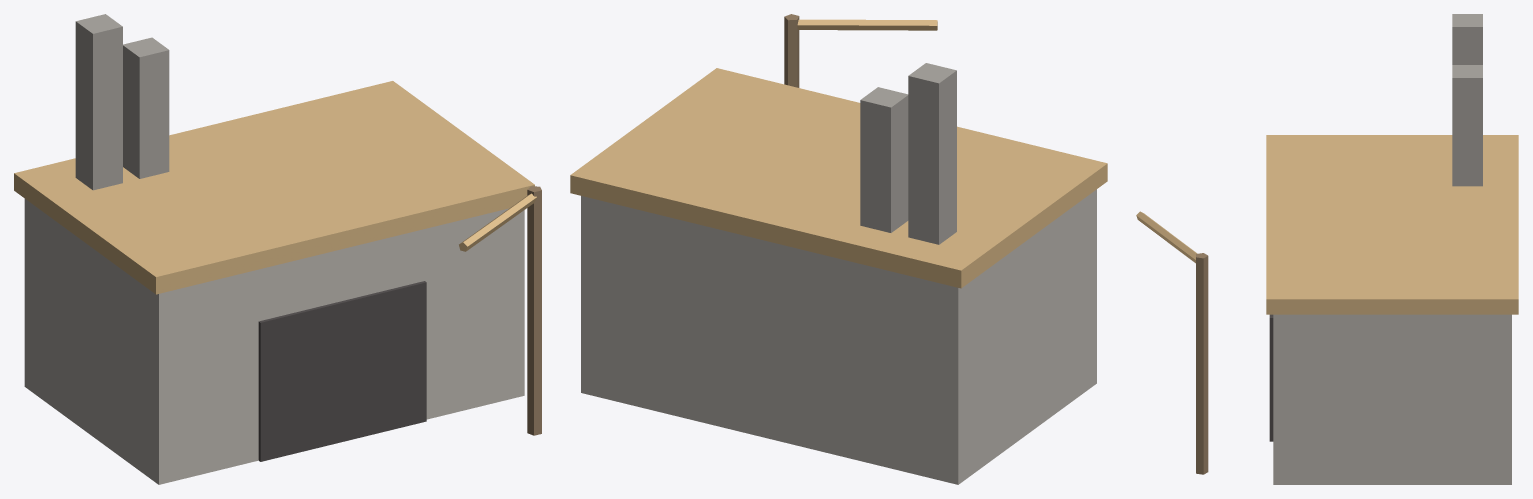
3 views of the same model, side by side, from view 1: azimuth 30°, elevation 25°; view 2: azimuth 150°, elevation 25°; view 3: azimuth 270°, elevation 25° (orthographic). The views are drawn at different scales.
Parts seen in each view (by area): view 1: body; view 2: body; view 3: body.
Boxes of the visible parts, x1=… form: body: x1=14, y1=14, x2=541, y2=484; body: x1=570, y1=14, x2=1107, y2=484; body: x1=1136, y1=14, x2=1518, y2=484.
Size of the model in its own units: 11.4 by 10.6 by 11.22.
